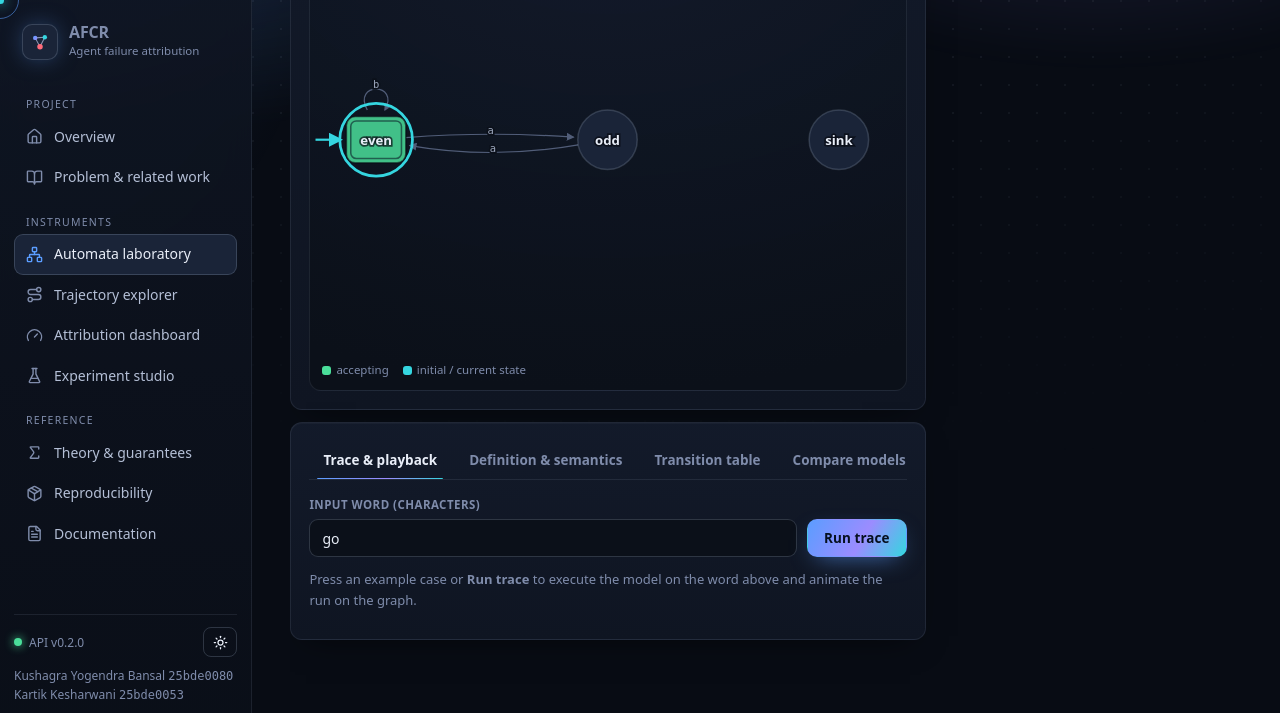
it: automata laboratory results are specific to the machine › a Turing machine that hits its step limit is "unknown", never "reject"
(page scrolled)
Click the button with test id "run-trace" at (857, 538), box [807, 519, 907, 557]
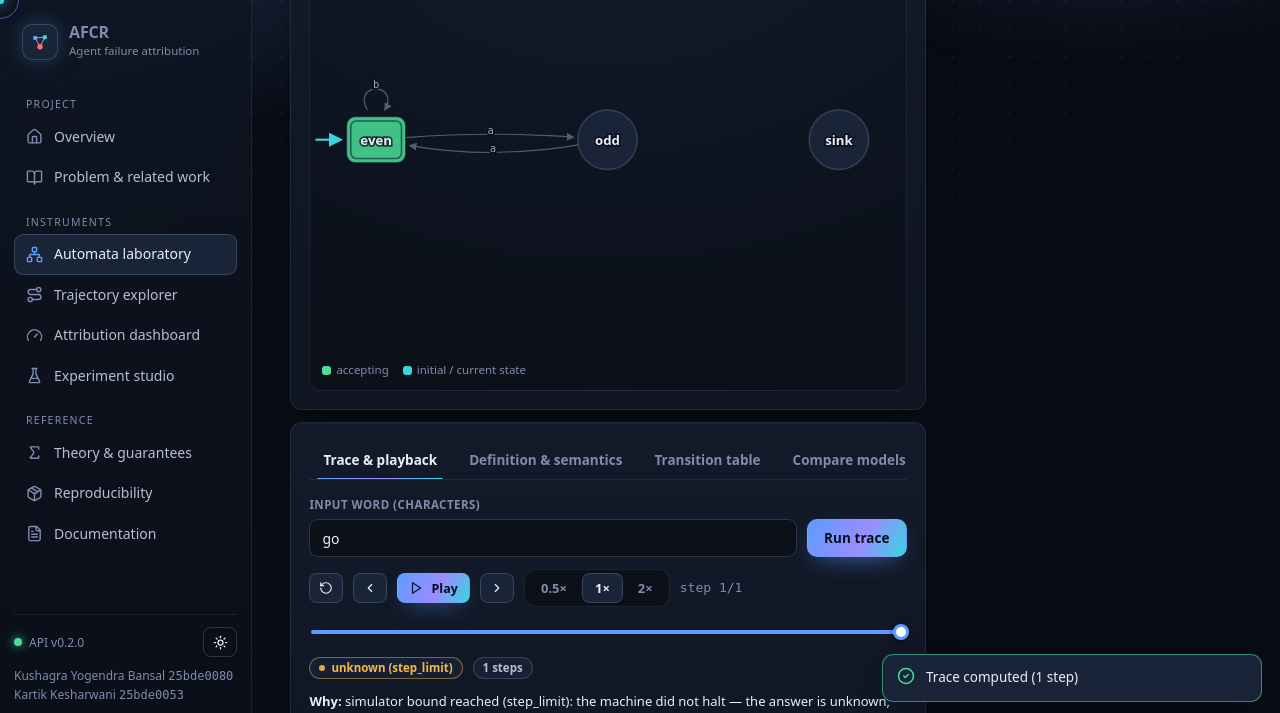
Expected: the text "unknown (step_limit)" is shown, [309, 657, 463, 679]
Expected: the text "Trace computed (1 step)" is shown, [926, 667, 1078, 689]
